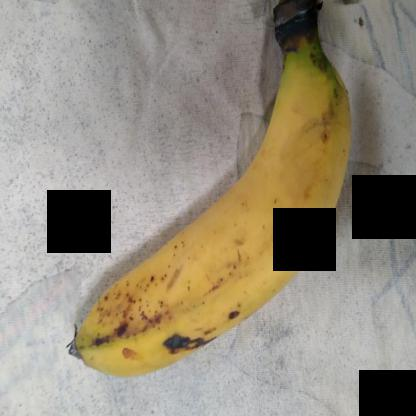ripe: (63, 47, 359, 400)
